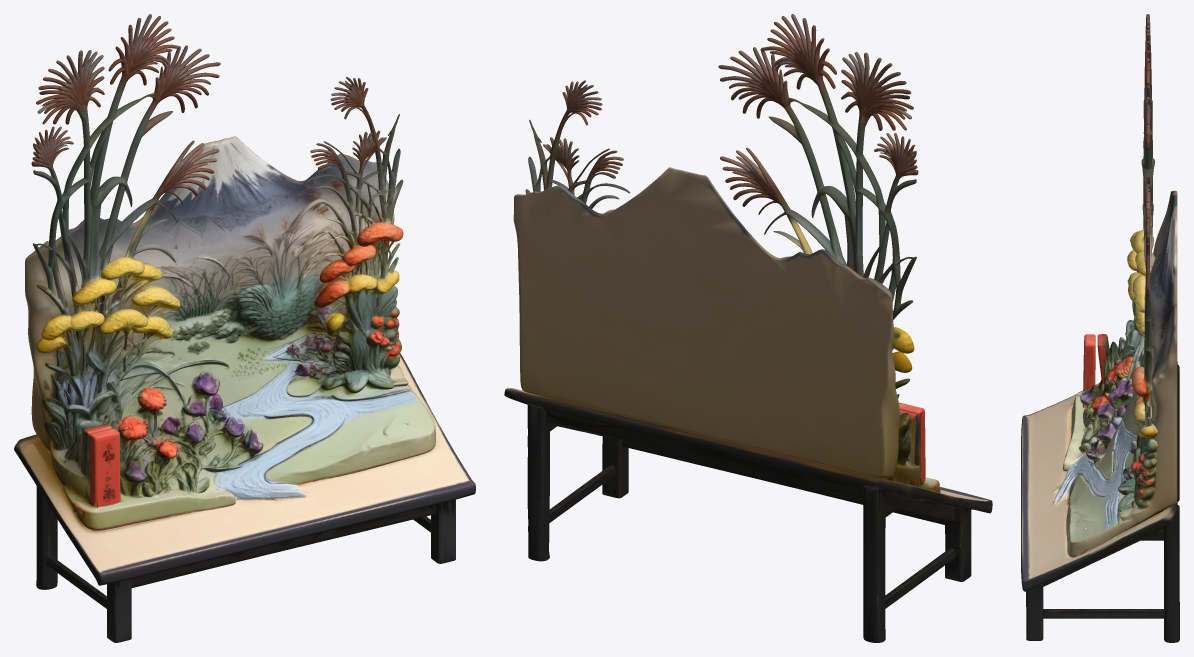
Rendered from you-can-call-me-ai.glb.
3 renders of one model, left to right at view 1: azimuth 30°, elevation 25°; view 2: azimuth 150°, elevation 25°; view 3: azimuth 270°, elevation 25°, orthographic. The views are drawn at different scales.
Visible parts, largest first — view 1: material; view 2: material; view 3: material.
Part boxes in pixels (x1,y1,x2,y2): material: (14, 14, 475, 642); material: (504, 14, 992, 642); material: (1021, 14, 1179, 642).
Size of the model in its own units: 0.7137 by 0.9926 by 0.2825.
Materials: 1 (1 with a texture image).
